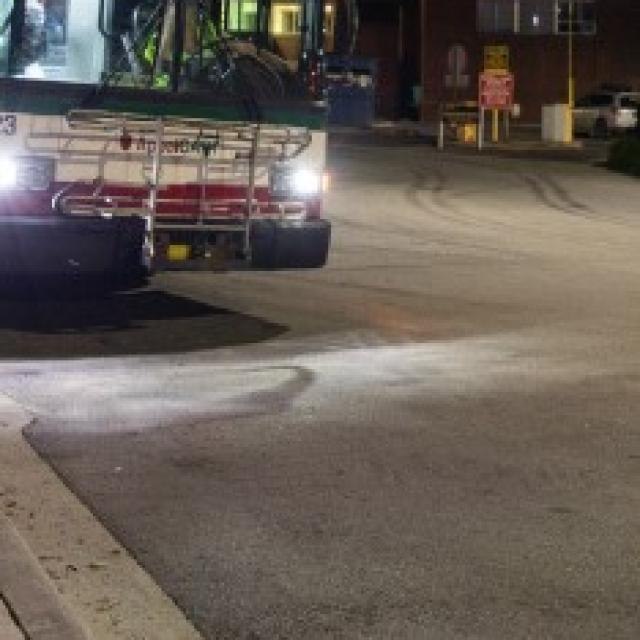bus: (0, 0, 333, 285)
car: (573, 89, 640, 136)
